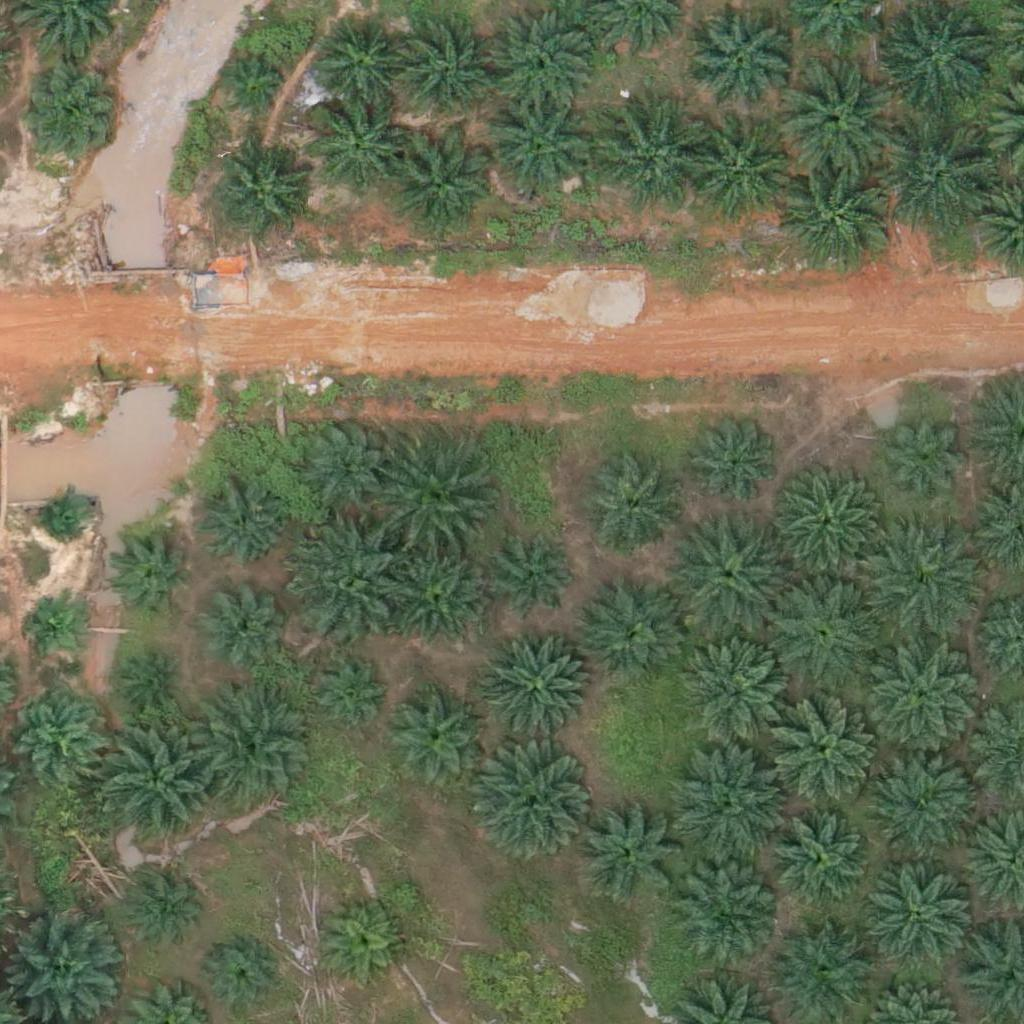Kelapa_Sawit: (868, 642, 981, 756), (472, 747, 585, 861), (198, 696, 311, 810), (868, 527, 981, 640), (869, 861, 982, 974), (766, 697, 879, 810), (766, 468, 879, 581), (680, 638, 793, 751), (669, 861, 782, 974), (103, 719, 216, 832), (780, 162, 893, 275), (485, 3, 598, 116), (482, 91, 595, 204), (384, 130, 497, 243), (868, 746, 980, 860), (765, 574, 877, 688), (4, 909, 116, 1023), (590, 100, 702, 214), (678, 517, 790, 630), (675, 753, 787, 866), (483, 633, 595, 746), (380, 446, 492, 559), (290, 525, 402, 638), (885, 121, 997, 234), (779, 62, 891, 175), (680, 119, 792, 232), (684, 411, 784, 512), (578, 799, 678, 900), (579, 584, 679, 685), (386, 544, 486, 645), (292, 411, 392, 512), (687, 8, 787, 109), (395, 25, 495, 126), (310, 16, 410, 117), (212, 142, 312, 243), (20, 70, 120, 171), (776, 922, 876, 1022), (771, 810, 871, 910), (583, 461, 683, 561), (387, 686, 487, 786), (305, 96, 405, 196), (198, 482, 285, 571), (885, 414, 972, 502), (492, 535, 579, 623), (305, 652, 392, 740), (198, 581, 285, 669), (14, 685, 101, 773), (108, 529, 195, 617), (318, 902, 405, 990), (202, 940, 277, 1016), (126, 866, 201, 941), (218, 54, 293, 129), (30, 598, 80, 649), (37, 488, 87, 538), (128, 657, 178, 707)
